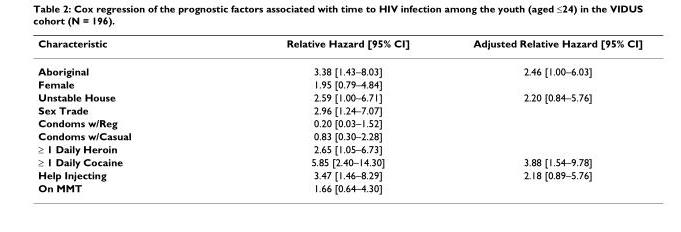table: (37, 36, 642, 193)
table column: (208, 36, 440, 193), (440, 36, 642, 193), (37, 36, 208, 193)
table column header: (37, 36, 642, 56)
table row: (37, 56, 642, 77), (37, 36, 642, 56), (37, 154, 642, 168), (37, 77, 642, 90), (37, 90, 642, 103), (37, 103, 642, 116), (37, 116, 642, 129), (37, 141, 642, 154), (37, 168, 642, 181), (37, 129, 642, 141), (37, 181, 642, 193)
